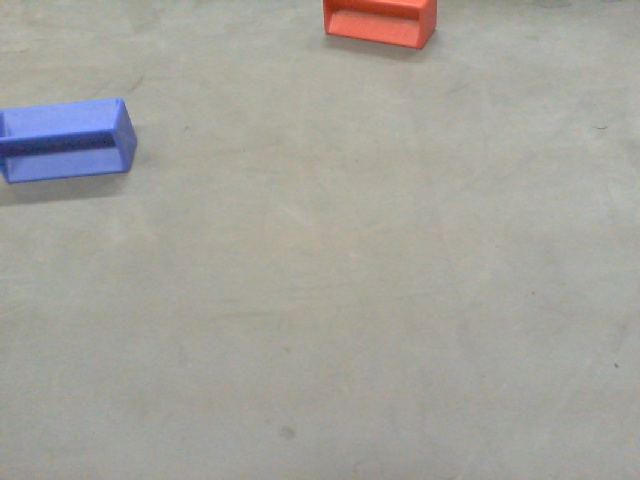BlueSample: (1, 95, 139, 191)
RedSample: (322, 1, 440, 53)
